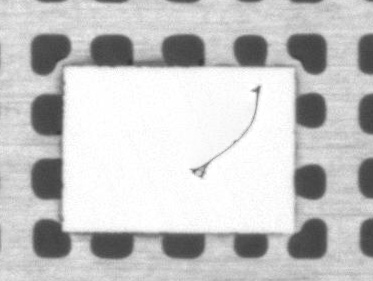DIE_INK: (191, 85, 258, 181)
